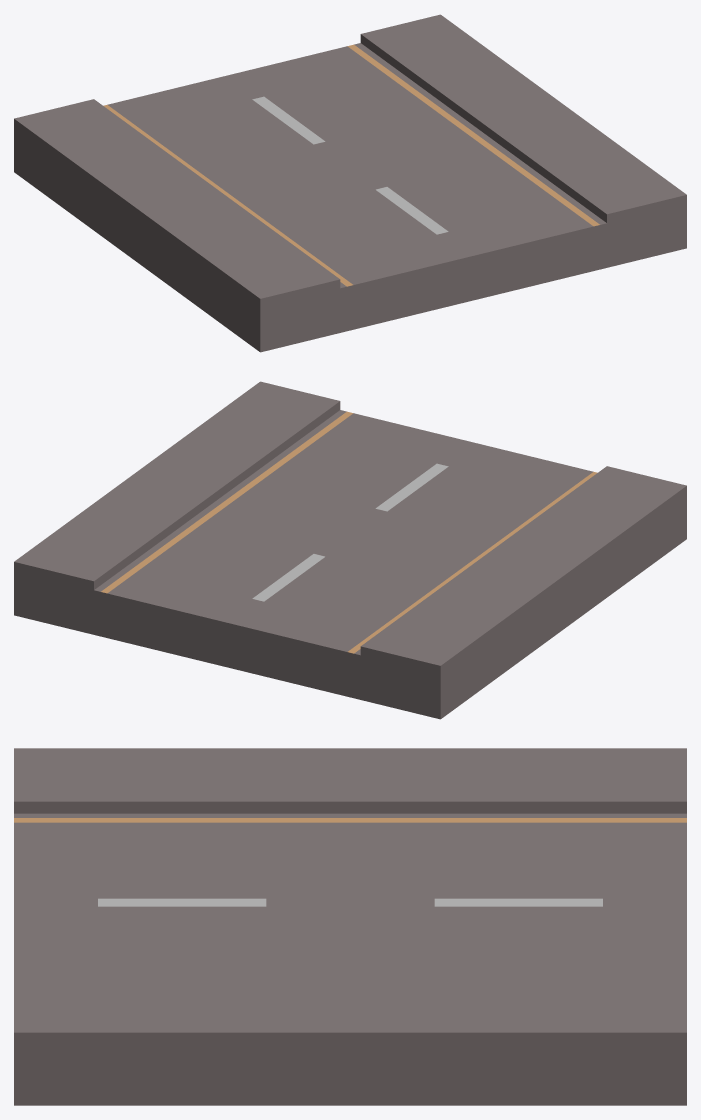
The model's file is Road Straight.fbx.
3 renders of one model, top to bottom at view 1: azimuth 30°, elevation 25°; view 2: azimuth 150°, elevation 25°; view 3: azimuth 270°, elevation 25°, orthographic. The views are drawn at different scales.
Visible parts, largest first — view 1: RoadStraight; view 2: RoadStraight; view 3: RoadStraight.
Part boxes in pixels (x1,y1,x2,y2): RoadStraight: (14,14,686,352); RoadStraight: (14,381,686,719); RoadStraight: (14,748,686,1105).
Bounding box in the file's own units: 10 × 1.2 × 10.
